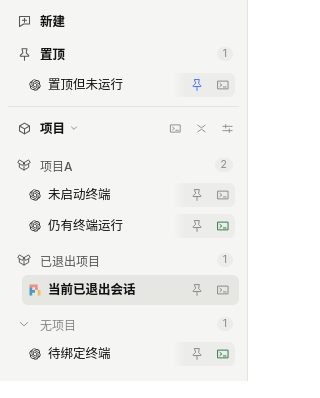
Test: Sidebar 最近活动 › filters only unpinned sessions with live terminals when grouped by project
The width and height of the screenshot is (320, 398).
Expected: the text "待绑定终端" is shown, [48,344,110,364]
Expected: the text "置顶但未运行" is shown, [48,75,123,95]
Click the button named "仅显示运行中会话" at (175,128), box [163,116,187,140]
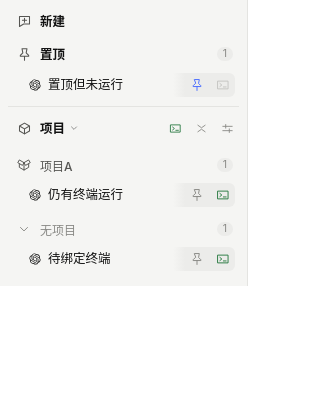
Expected: the text "仍有终端运行" is shown once, [48,185,123,205]
Expected: the button "当前已退出会话" is gone
Expected: the button "未启动终端" is gone
Click the button named "仅显示运行中会话" at (175,128), box [163,116,187,140]
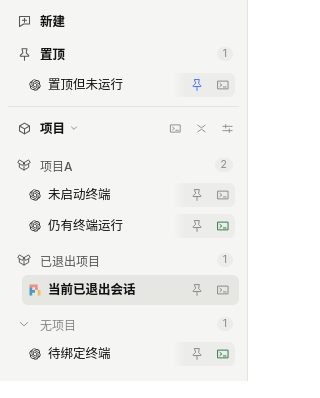
Expected: the text "当前已退出会话" is shown, [48,280,136,300]
Expected: the text "未启动终端" is shown, [48,185,110,205]
